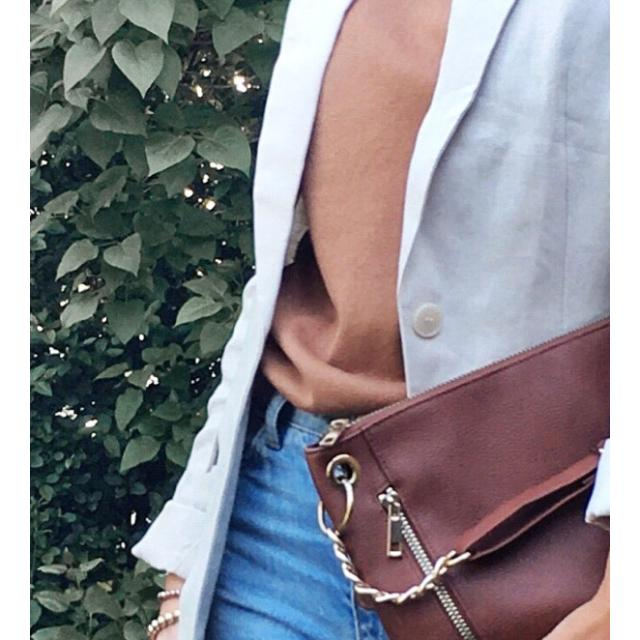linen: (218, 0, 610, 374)
